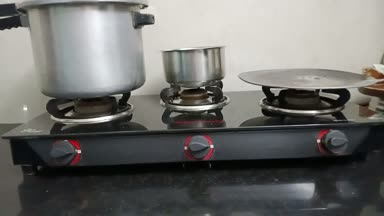flame_gas_off: (266, 89, 368, 157), (40, 94, 131, 169), (160, 83, 233, 167)
